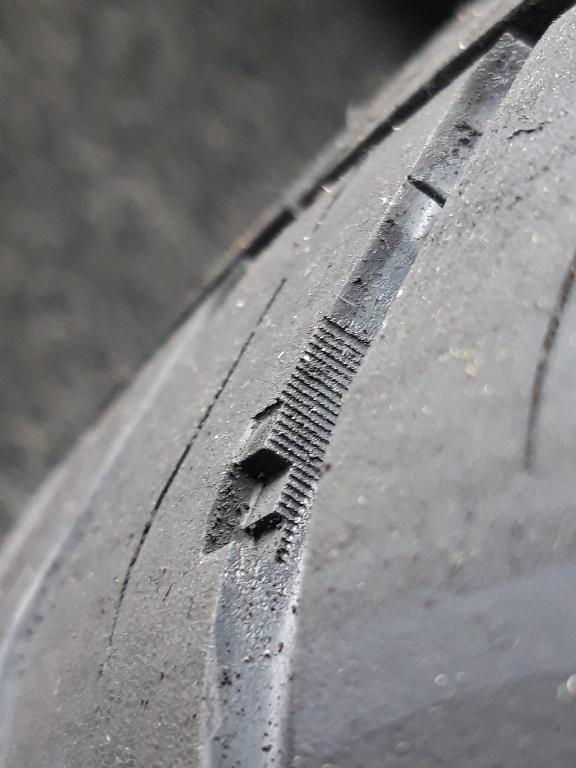temoin:50: (195, 394, 336, 579)
